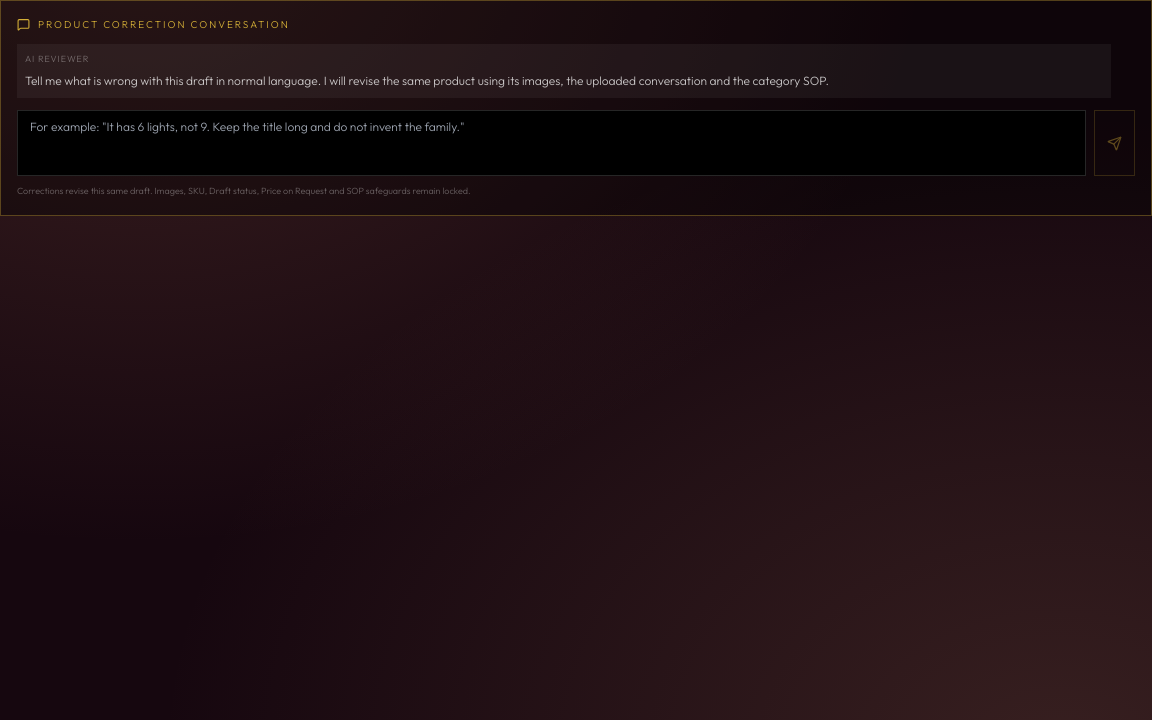
Test: ProductDraftConversation › sends a natural-language correction with draft, filenames and history
Replace the text in the text box with placeholder "For example" with "It has 6 lights, not 9. Keep the title long." at (552, 143), box [17,110,1086,176]
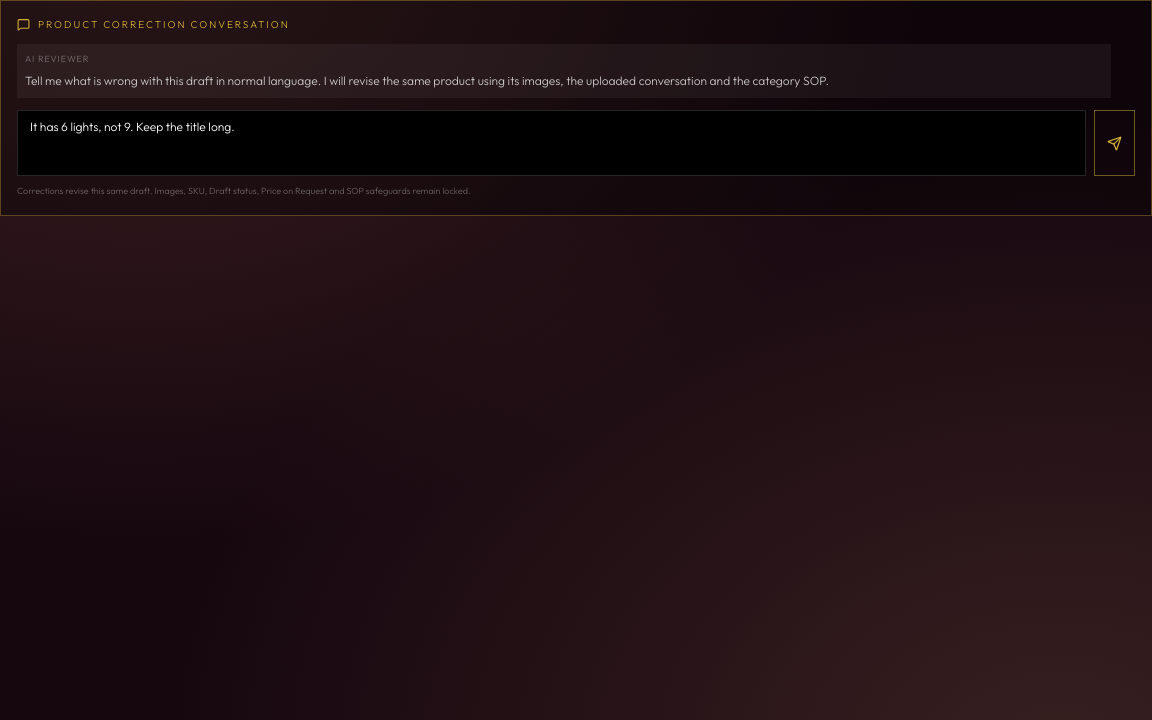
Click the button named "Send product correction" at (1114, 143), box [1094,110,1135,176]
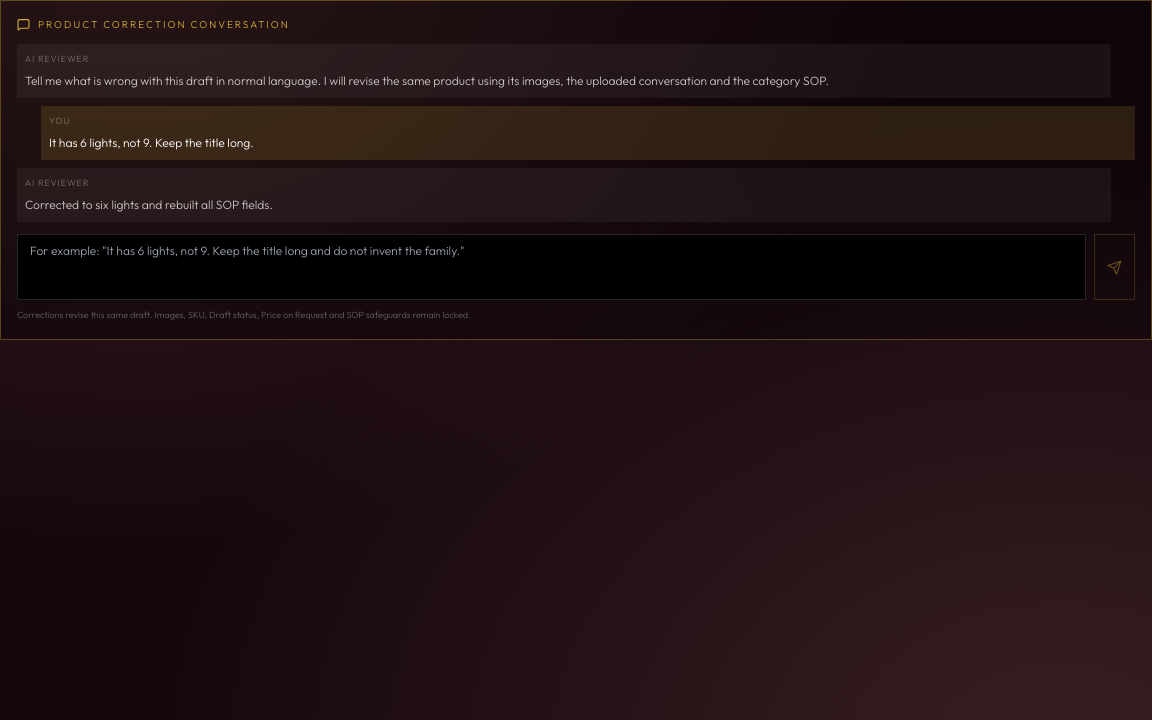
Check: the text "Corrected to six lights" is shown, box [25,197,273,212]
